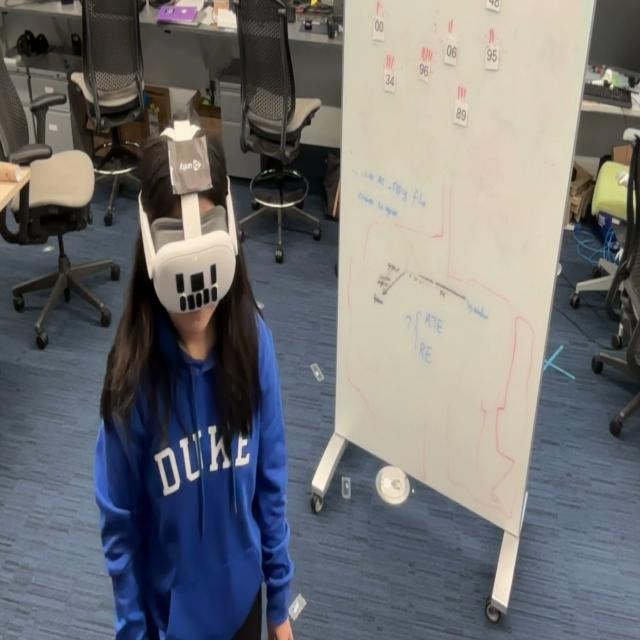Headset: (137, 170, 239, 315)
UnityLogo: (161, 115, 214, 198)
